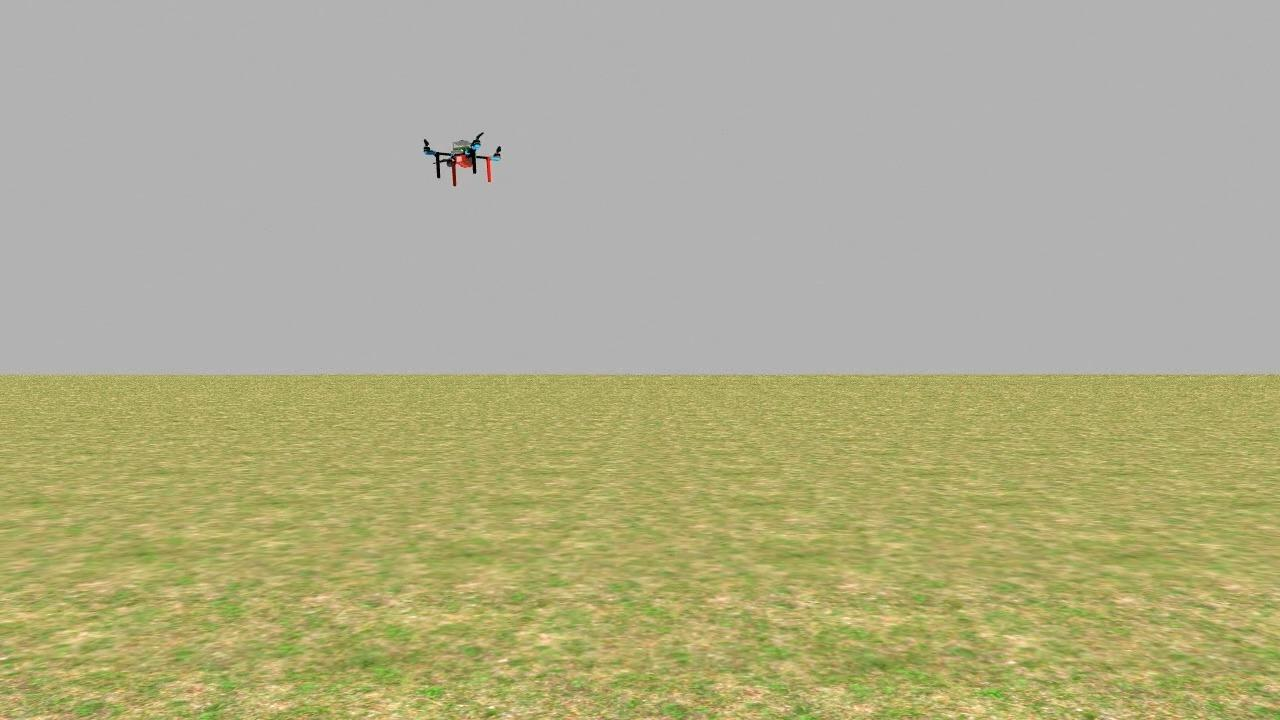UAV: (401, 103, 530, 201)
